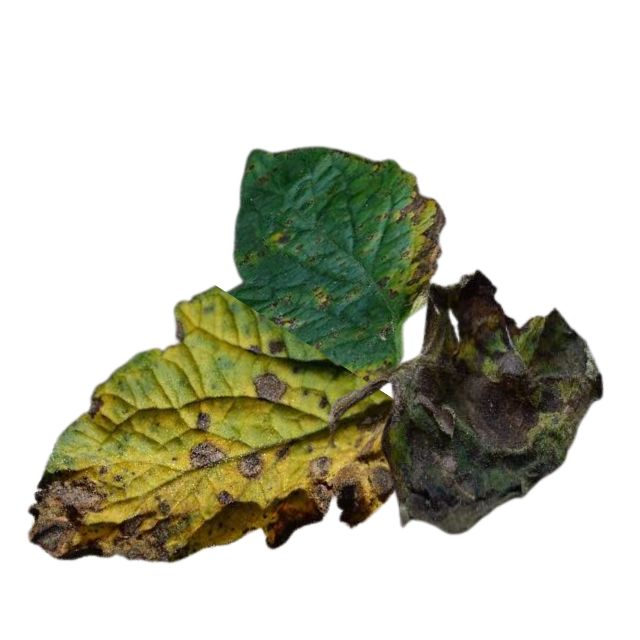Early_blight: (377, 272, 602, 535), (22, 465, 198, 563), (268, 446, 394, 550), (397, 184, 446, 304), (186, 438, 228, 469), (252, 371, 287, 406), (236, 451, 265, 478), (86, 396, 104, 420), (194, 410, 212, 433), (265, 338, 290, 354), (216, 488, 234, 507), (274, 229, 293, 244)
